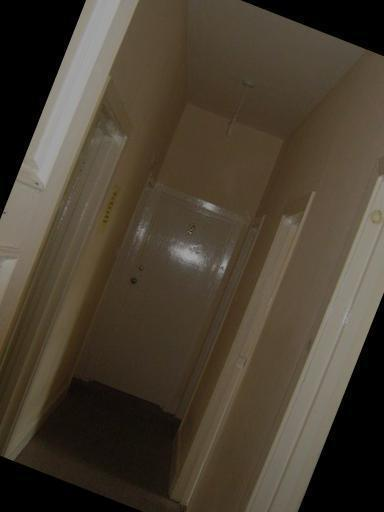Puerta: (0, 94, 136, 452), (168, 209, 306, 512), (81, 190, 243, 417)
